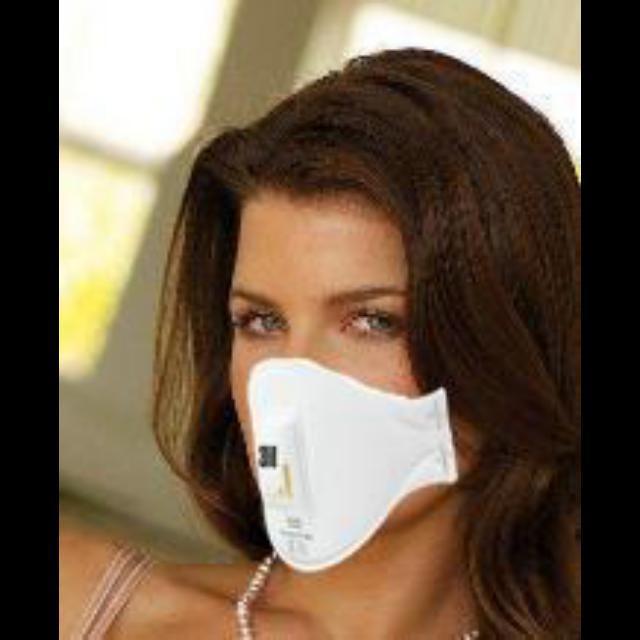suspicion: (170, 117, 474, 557)
